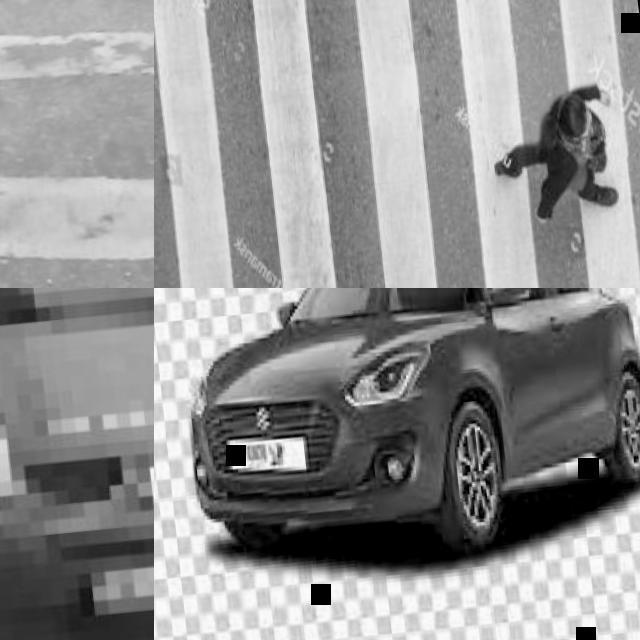car: (188, 287, 636, 562)
